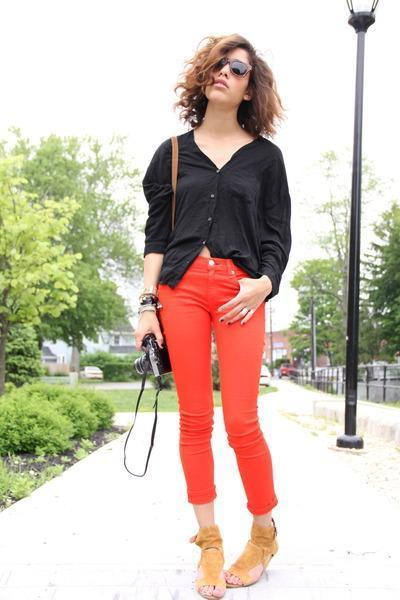pants: (157, 256, 275, 515)
shirt: (142, 132, 291, 288)
shoe: (190, 516, 277, 599)
